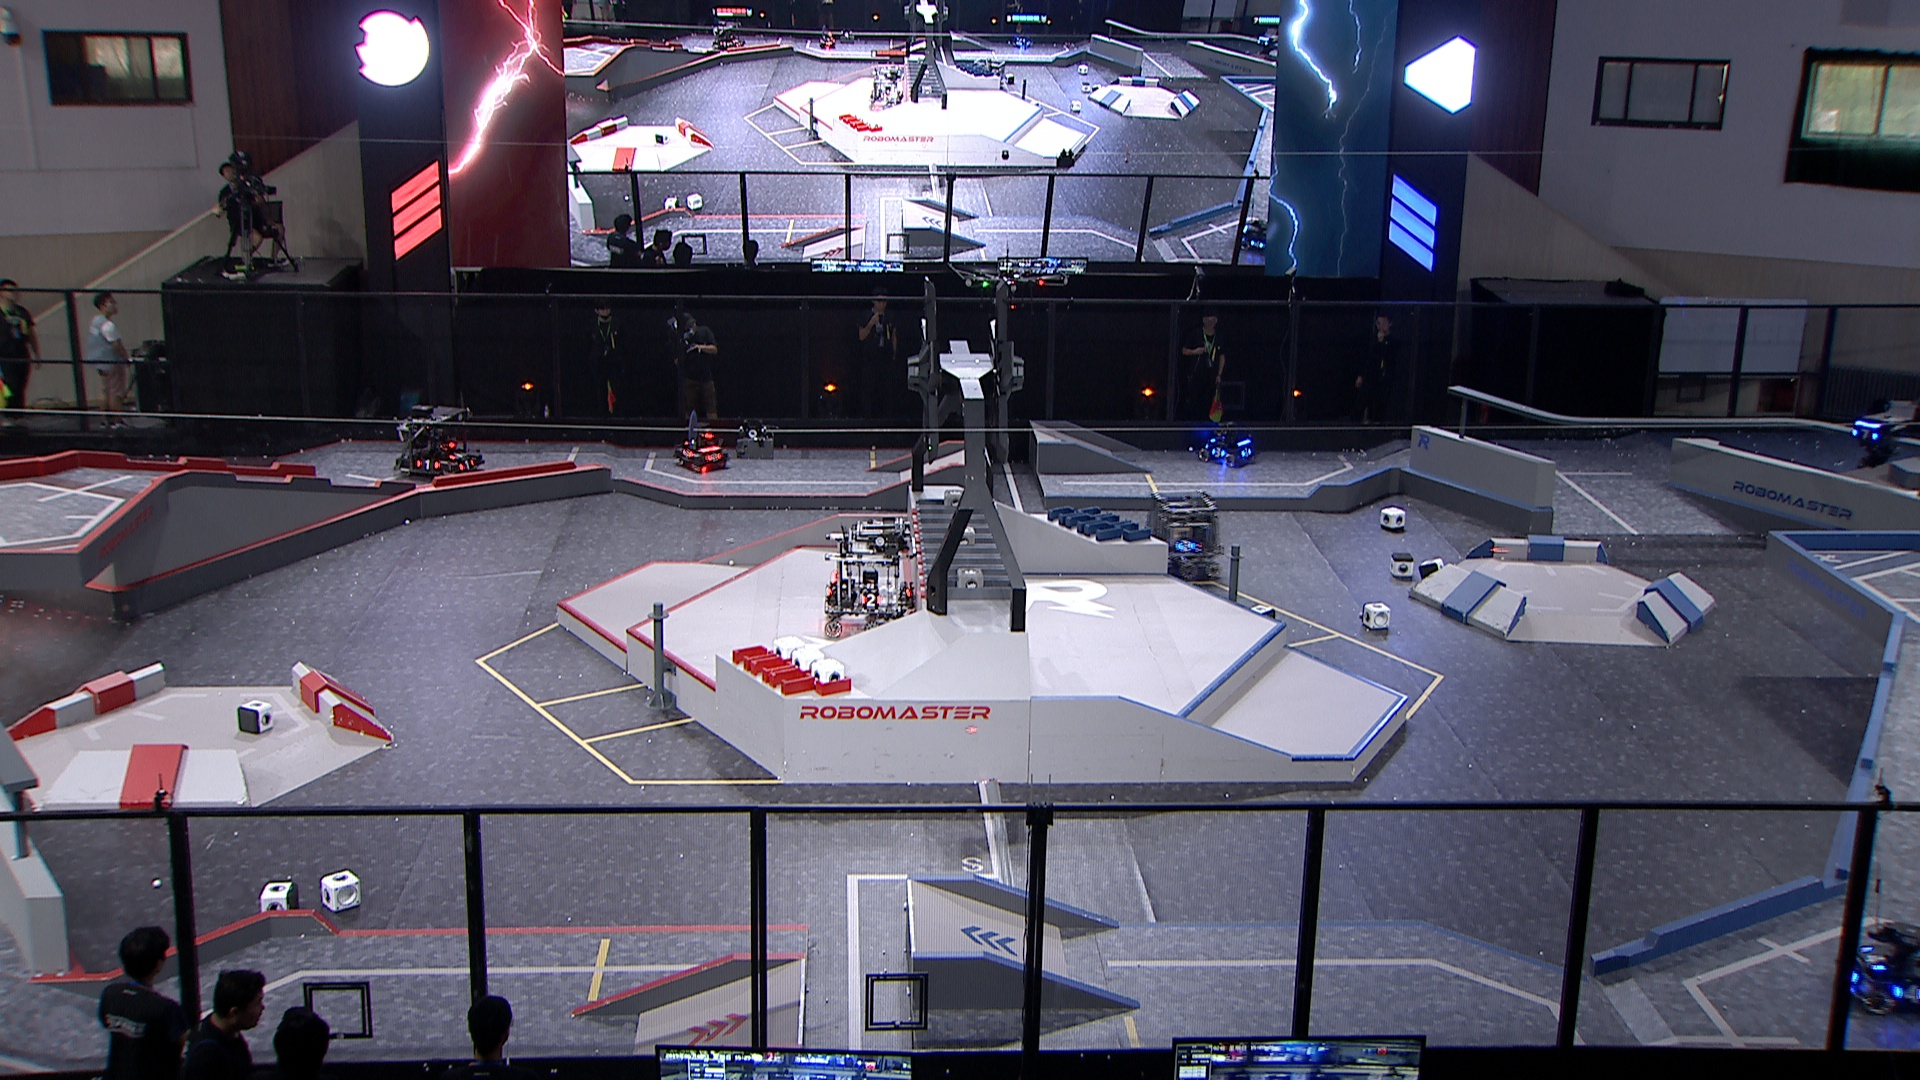armor: (1859, 939, 1888, 973), (1892, 981, 1920, 1004), (1851, 425, 1880, 446), (856, 589, 884, 609), (413, 456, 440, 472), (1174, 537, 1197, 555), (455, 455, 479, 472), (447, 446, 468, 462), (703, 450, 723, 465), (680, 447, 698, 462), (1211, 443, 1226, 458), (1240, 446, 1253, 462)
car: (820, 517, 922, 638), (1141, 488, 1226, 579), (392, 398, 485, 481), (1840, 922, 1920, 1015), (1196, 419, 1258, 471), (675, 425, 735, 475)
ignore: (869, 65, 906, 109), (975, 53, 1007, 92), (707, 22, 745, 50), (1240, 218, 1267, 253), (1259, 26, 1284, 62), (1006, 26, 1035, 53), (816, 29, 839, 53)
watcher: (1845, 410, 1911, 469)
